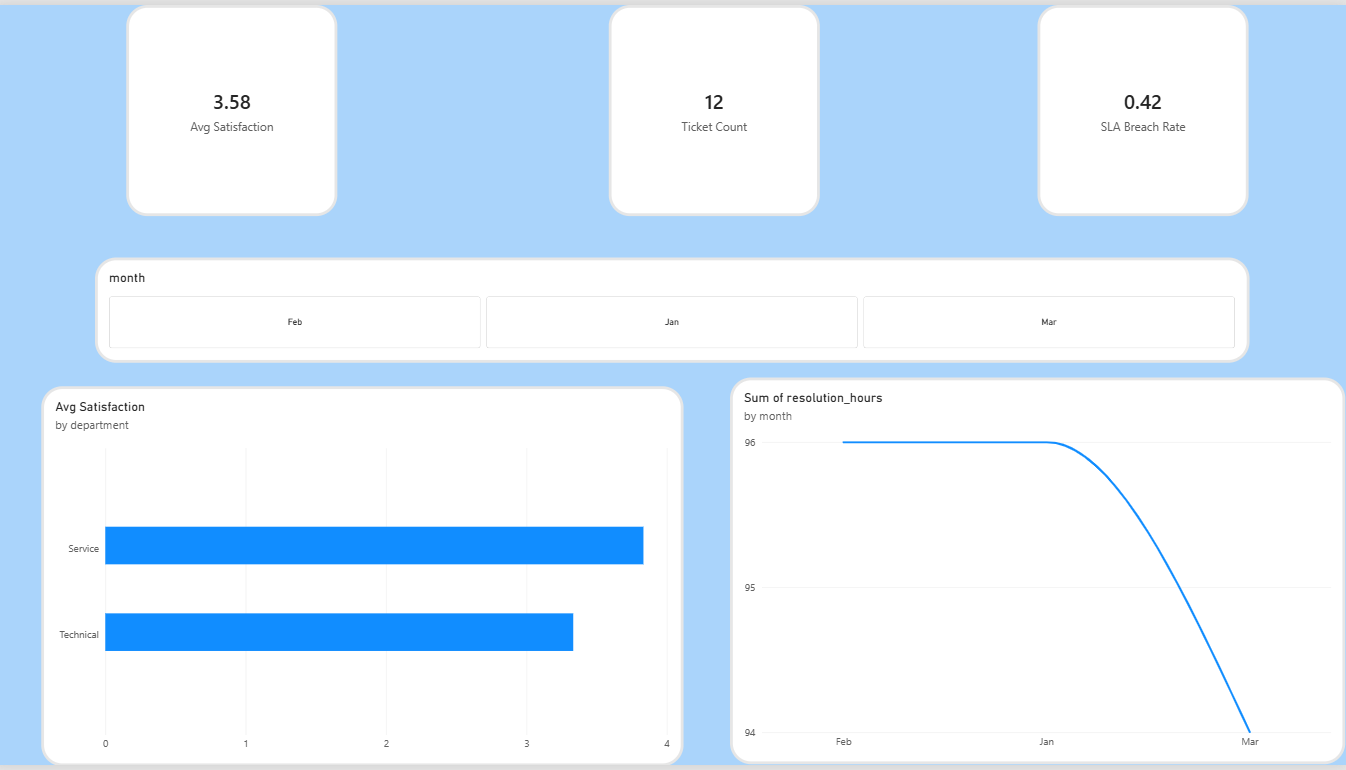

The dashboard page shown, as its layout file describes it:
{"tool":"powerbi","page":{"name":"Page 1","canvas":[1920,1080],"ordinal":0},"visuals":[{"type":"card","fields":{"Values":["Team.Avg Satisfaction"]},"box":[186.1,0,300,300],"z":0},{"type":"card","fields":{"Values":["Team.SLA Breach Rate"]},"box":[1482.4,0,300,300],"z":1},{"type":"card","fields":{"Values":["Team.Ticket Count"]},"box":[872.1,0,300,300],"z":2},{"type":"clusteredBarChart","fields":{"Category":["Team.department"],"Y":["Team.Avg Satisfaction"]},"box":[64.9,541,913.1,539.7],"z":3},{"type":"lineChart","fields":{"Category":["Tickets.month"],"Y":["Sum(Tickets.resolution_hours)"]},"box":[1045.3,530.2,874.3,549.7],"z":4},{"type":"advancedSlicerVisual","fields":{"Values":["Tickets.month"]},"box":[142.8,359.2,1640.4,149.3],"z":5}]}

Visuals, with their boxes in screenshot pixels (x1, y1, x2, y2), scaled from the page's 1920x1080 canvas onto the 1346x770 screenshot:
card - Team.Avg Satisfaction: Rect(130, 0, 341, 214)
card - Team.SLA Breach Rate: Rect(1039, 0, 1250, 214)
card - Team.Ticket Count: Rect(611, 0, 822, 214)
clusteredBarChart - Team.department x Team.Avg Satisfaction: Rect(45, 386, 686, 769)
lineChart - Tickets.month x Sum(Tickets.resolution_hours): Rect(733, 378, 1345, 769)
advancedSlicerVisual - Tickets.month: Rect(100, 256, 1250, 363)
